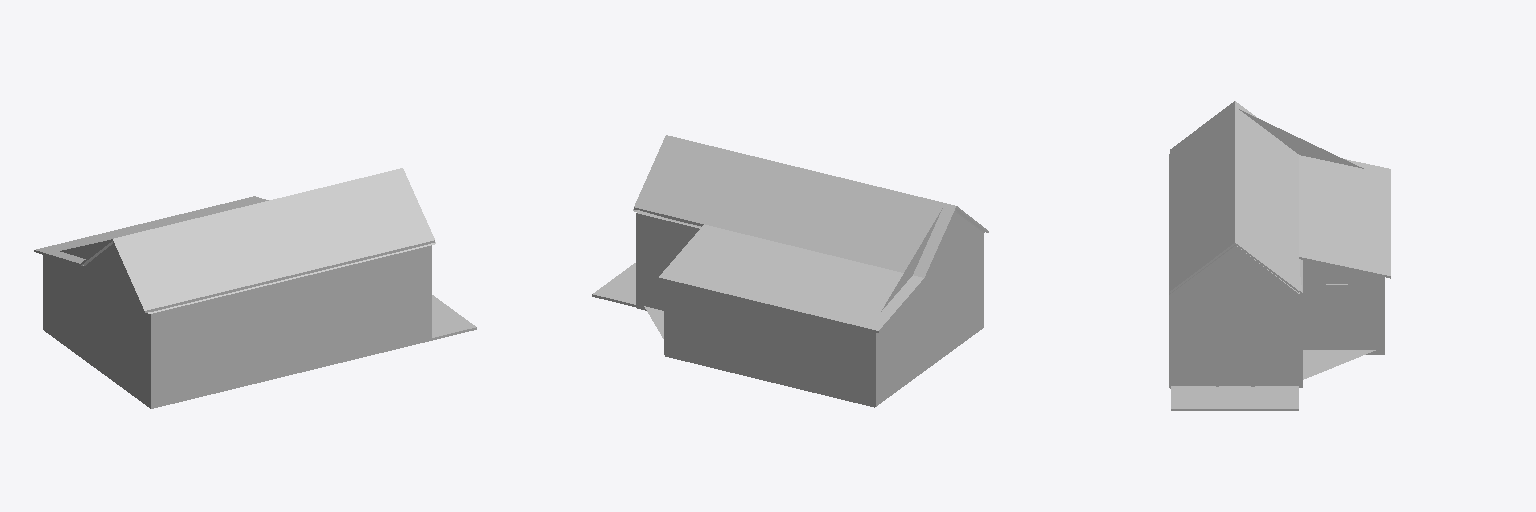
Rendered from Cabin_Interior_2.obj.
The picture shows the model from 3 angles: view 1: azimuth 30°, elevation 25°; view 2: azimuth 150°, elevation 25°; view 3: azimuth 270°, elevation 25°; orthographic projection.
Visible parts, largest first — view 1: Walls_Cube.003, Cube; view 2: Cube, Walls_Cube.003; view 3: Cube, Walls_Cube.003.
Boxes of the visible parts, x1=… form: Walls_Cube.003: x1=43, y1=240, x2=431, y2=408; Cube: x1=34, y1=168, x2=476, y2=408; Cube: x1=592, y1=135, x2=988, y2=407; Walls_Cube.003: x1=636, y1=208, x2=983, y2=406; Cube: x1=1170, y1=101, x2=1390, y2=410; Walls_Cube.003: x1=1169, y1=109, x2=1384, y2=387.
Bounding box in the file's own units: 10.88 × 4.64 × 6.29.